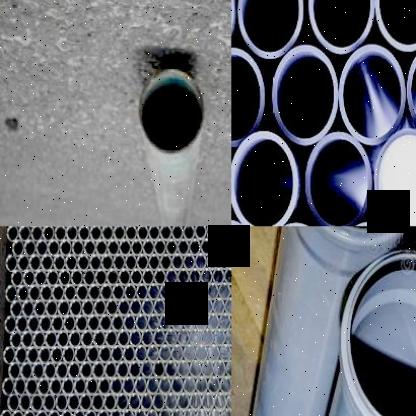pipe: (341, 250, 416, 416), (339, 45, 406, 146), (272, 45, 338, 145), (303, 132, 372, 226), (232, 131, 298, 226), (140, 67, 204, 157), (373, 129, 416, 226), (238, 0, 304, 59), (309, 0, 374, 54), (231, 48, 265, 147), (374, 0, 416, 52), (407, 40, 416, 140), (30, 393, 44, 414), (170, 375, 184, 396), (158, 375, 172, 396), (6, 393, 20, 413), (152, 392, 166, 412), (164, 392, 178, 412), (2, 345, 16, 365), (170, 343, 184, 363), (32, 330, 46, 350), (58, 268, 72, 288), (70, 268, 84, 288), (86, 376, 99, 397), (98, 376, 111, 397), (134, 375, 147, 396), (146, 375, 159, 396), (8, 361, 21, 382), (42, 394, 56, 413), (92, 361, 106, 380), (74, 345, 88, 364), (19, 393, 32, 413), (55, 393, 68, 413), (79, 393, 92, 413), (37, 377, 50, 397), (44, 361, 57, 381), (68, 361, 81, 381), (15, 345, 28, 365), (62, 345, 75, 365), (159, 343, 172, 363), (195, 343, 208, 363), (81, 329, 94, 349), (39, 314, 52, 334), (104, 392, 116, 413), (14, 376, 26, 397), (74, 376, 86, 397), (219, 375, 231, 396), (196, 375, 208, 396), (183, 375, 195, 396), (214, 359, 226, 380), (202, 359, 214, 380), (135, 343, 147, 364), (68, 330, 82, 348), (106, 297, 118, 318), (4, 285, 18, 303), (119, 238, 132, 257), (20, 362, 33, 381), (165, 360, 178, 379), (153, 360, 166, 379), (87, 345, 100, 364), (63, 314, 76, 333), (52, 283, 65, 302), (88, 283, 101, 302), (23, 269, 36, 288), (5, 254, 18, 273), (40, 254, 53, 273), (171, 253, 184, 272), (92, 393, 104, 413), (68, 393, 80, 413), (214, 392, 226, 412), (140, 392, 152, 412), (128, 392, 140, 412), (202, 392, 214, 412), (177, 392, 189, 412), (26, 377, 38, 397), (2, 377, 14, 397), (110, 376, 122, 396), (122, 376, 134, 396), (56, 361, 68, 381), (117, 360, 129, 380), (129, 360, 141, 380), (27, 345, 39, 365), (38, 345, 50, 365), (51, 345, 63, 365), (111, 344, 123, 364), (124, 344, 136, 364), (219, 343, 231, 363), (183, 343, 195, 363), (10, 330, 22, 350), (4, 314, 16, 334), (16, 314, 28, 334), (28, 314, 40, 334), (52, 314, 64, 334), (88, 313, 100, 333), (171, 312, 183, 332), (148, 312, 160, 332), (136, 312, 148, 332), (160, 312, 172, 332), (207, 312, 219, 332), (22, 299, 34, 319), (70, 298, 82, 318), (82, 298, 94, 318), (154, 297, 166, 317), (142, 297, 154, 317), (190, 297, 202, 317), (177, 297, 189, 317), (166, 297, 178, 317), (213, 297, 225, 317), (136, 282, 148, 302), (207, 281, 219, 301), (218, 281, 230, 301), (84, 268, 96, 288), (177, 267, 189, 287), (12, 239, 25, 257), (195, 313, 208, 331), (89, 254, 102, 272), (65, 254, 78, 272), (53, 254, 66, 272), (208, 375, 219, 396), (166, 238, 178, 257), (154, 238, 166, 257), (200, 237, 212, 256), (116, 393, 128, 412), (50, 377, 62, 396), (62, 377, 74, 396), (32, 362, 44, 381), (80, 361, 92, 380), (104, 361, 116, 380), (141, 360, 153, 379), (190, 360, 202, 379), (178, 360, 190, 379), (100, 345, 112, 364), (146, 344, 158, 363), (22, 330, 34, 349), (45, 330, 57, 349), (57, 330, 69, 349), (106, 329, 118, 348), (94, 329, 106, 348), (118, 329, 130, 348), (190, 328, 202, 347), (202, 328, 214, 347), (177, 328, 189, 347), (76, 314, 88, 333), (100, 313, 112, 332), (112, 313, 124, 332), (124, 313, 136, 332), (10, 300, 22, 319), (34, 299, 46, 318), (46, 299, 58, 318), (58, 299, 70, 318), (94, 298, 106, 317), (118, 298, 130, 317), (130, 298, 142, 317), (18, 284, 30, 303), (76, 283, 88, 302), (64, 283, 76, 302), (100, 283, 112, 302), (148, 282, 160, 301), (160, 282, 172, 301), (11, 269, 23, 288), (35, 269, 47, 288), (107, 268, 119, 287), (118, 268, 130, 287), (130, 268, 142, 287), (212, 267, 224, 286), (200, 267, 212, 286), (18, 254, 30, 273), (30, 254, 42, 273), (148, 253, 160, 272), (160, 253, 172, 272), (190, 392, 201, 412), (208, 343, 219, 363), (219, 312, 230, 332), (24, 239, 36, 257), (60, 239, 72, 257), (84, 239, 96, 257), (48, 239, 60, 257), (72, 239, 84, 257), (177, 238, 189, 256), (36, 238, 48, 256), (130, 329, 142, 347), (142, 329, 154, 347), (154, 329, 166, 347), (166, 329, 178, 347), (183, 313, 195, 331), (40, 284, 52, 302), (124, 283, 136, 301), (195, 282, 207, 300), (47, 269, 59, 287), (95, 269, 107, 287), (154, 268, 166, 286), (166, 268, 178, 286), (78, 254, 90, 272), (112, 254, 124, 272), (102, 254, 114, 272), (125, 254, 137, 272), (218, 253, 230, 271), (206, 253, 218, 271), (108, 238, 119, 257), (143, 238, 154, 257), (214, 328, 225, 347), (137, 253, 148, 272), (195, 253, 206, 272), (212, 238, 224, 255), (30, 226, 42, 243), (90, 226, 102, 243), (78, 226, 90, 243), (65, 226, 77, 243), (54, 226, 66, 243), (6, 226, 18, 243), (171, 283, 183, 300), (202, 297, 212, 317), (96, 239, 107, 257), (190, 238, 201, 256), (143, 268, 154, 286), (190, 268, 201, 286), (112, 226, 124, 242), (125, 226, 137, 242), (160, 226, 172, 242), (182, 226, 194, 242), (112, 284, 124, 300), (30, 284, 40, 303), (184, 282, 194, 301), (184, 253, 194, 272), (20, 226, 31, 243), (131, 240, 142, 256), (101, 226, 112, 242), (137, 226, 148, 242), (148, 226, 159, 242), (170, 226, 182, 240), (194, 226, 206, 240), (217, 226, 229, 240), (42, 226, 52, 242), (206, 226, 217, 240), (224, 237, 232, 256), (224, 297, 232, 316), (224, 267, 232, 285), (170, 407, 184, 416), (158, 407, 172, 416), (226, 359, 232, 379), (226, 392, 232, 411), (226, 328, 232, 347), (208, 407, 220, 416), (184, 407, 196, 416), (134, 407, 146, 416), (0, 408, 13, 416), (122, 408, 135, 416), (84, 409, 98, 416), (96, 409, 110, 416), (196, 408, 208, 416), (146, 408, 158, 416), (110, 408, 122, 416), (220, 408, 232, 416), (48, 409, 61, 416), (23, 409, 36, 416), (72, 409, 85, 416), (60, 409, 73, 416), (12, 409, 24, 416), (36, 410, 48, 416)
